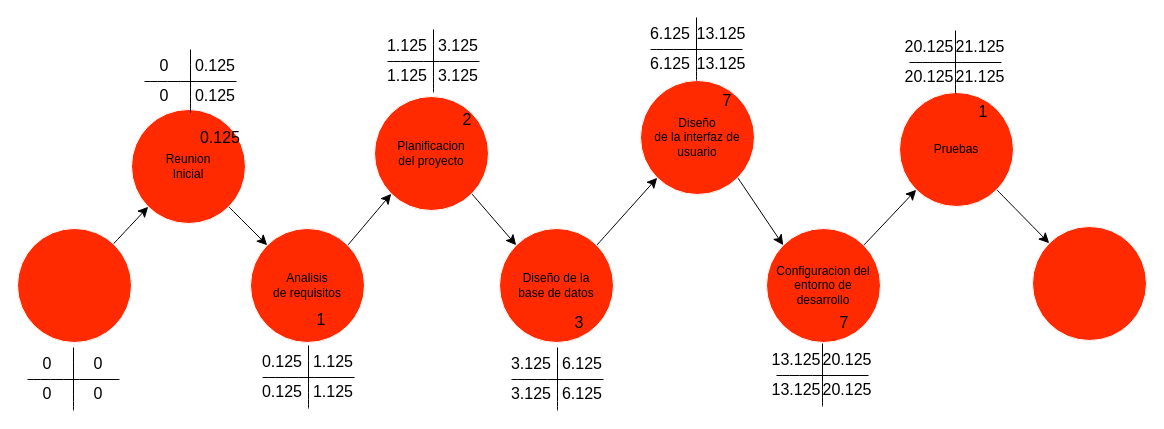
This 1164x429 diagram has some shape labels left out. Here are the shapes that lost their labels. From the top down, the centre of each, then its label:
At (x=74, y=285): "Inicio".
At (x=1089, y=283): "Fin".
